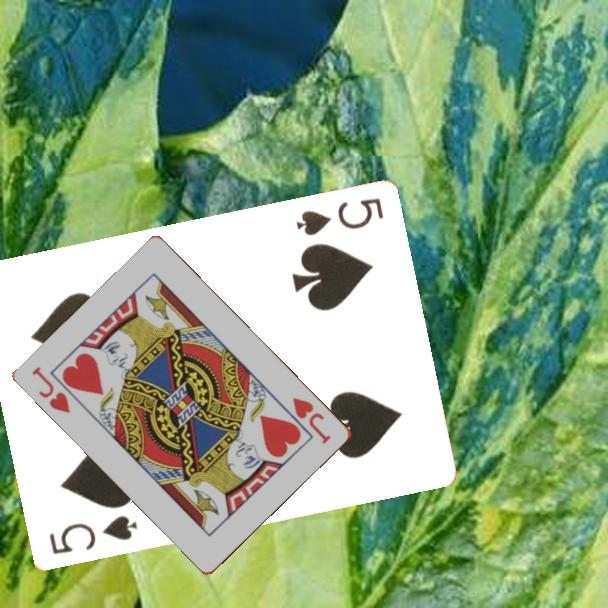h11: (29, 363, 74, 417), (289, 394, 334, 447)
s05: (45, 512, 140, 558), (292, 195, 386, 239)
